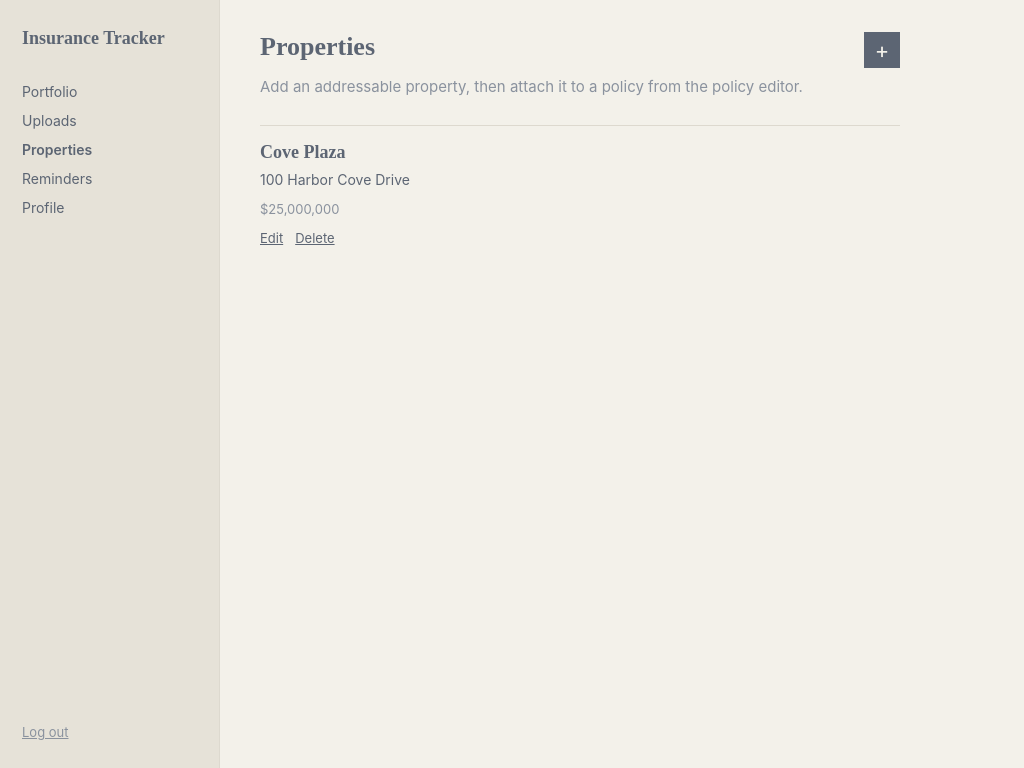
Test: portfolio management › edits a property and returns to the list
This screenshot has width=1024, height=768.
Click the link with aria-label "edit cove plaza" at (272, 238), box [260,230,283,246]
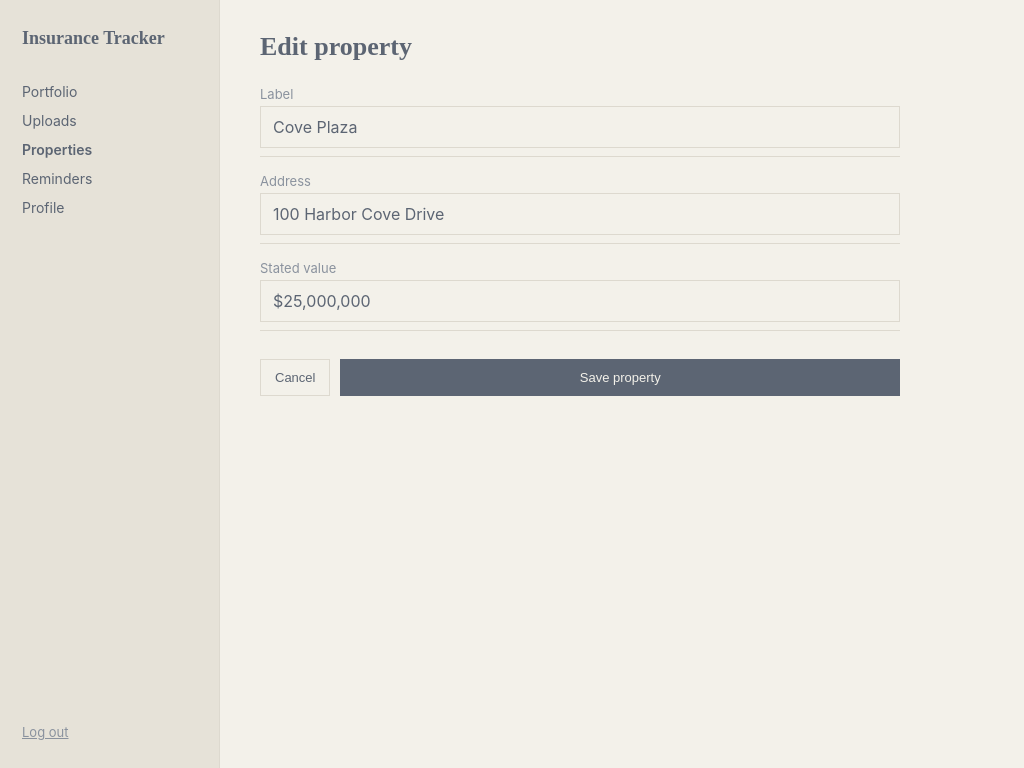
Result: the field labelled "Label" holds "Cove Plaza"
Replace the text in the field labelled "Label" with "Cove Plaza North" at (580, 127), box [260,106,900,148]
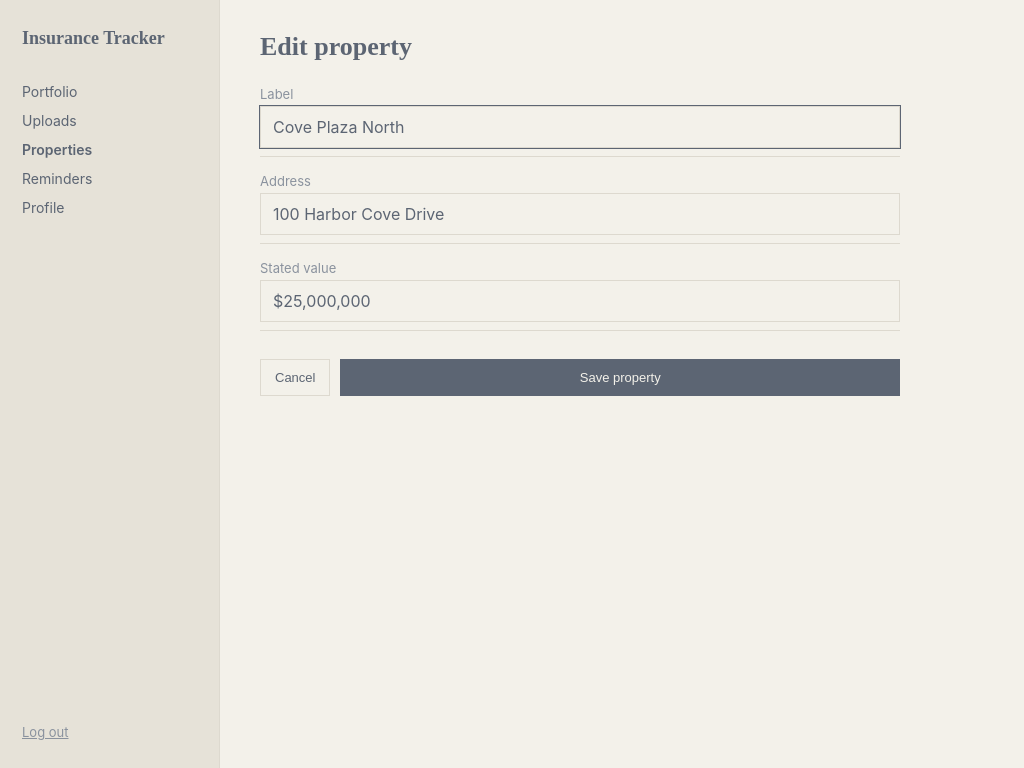
Click the button "Save property" at (620, 377), box [340,359,900,396]
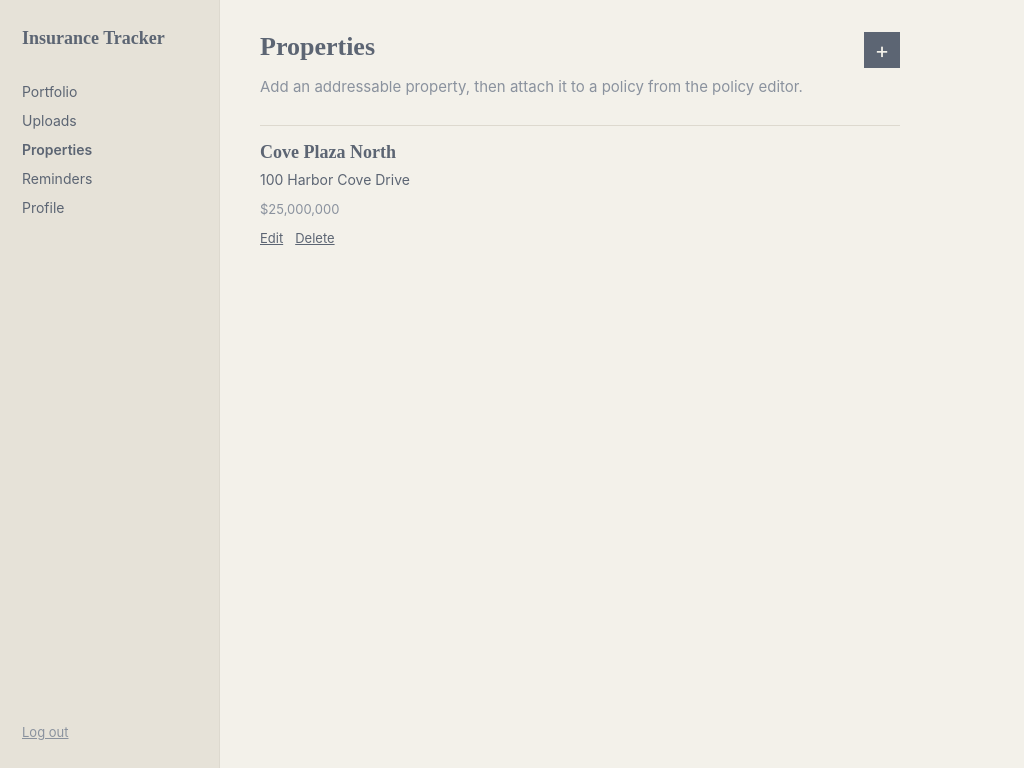
Result: the heading "Cove Plaza North" is shown at [260,142,396,163]
Result: the element named "properties" shows "Cove Plaza North" at [260,142,396,162]
Result: the label labelled "Label" is gone
